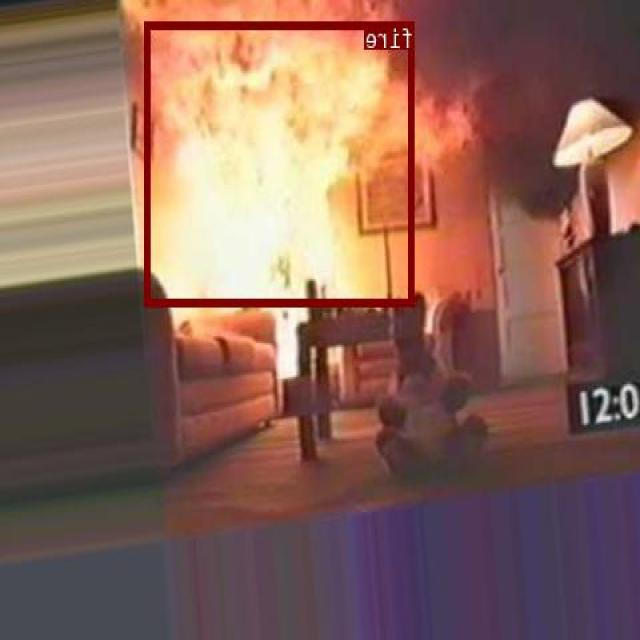fire: (145, 21, 415, 305)
